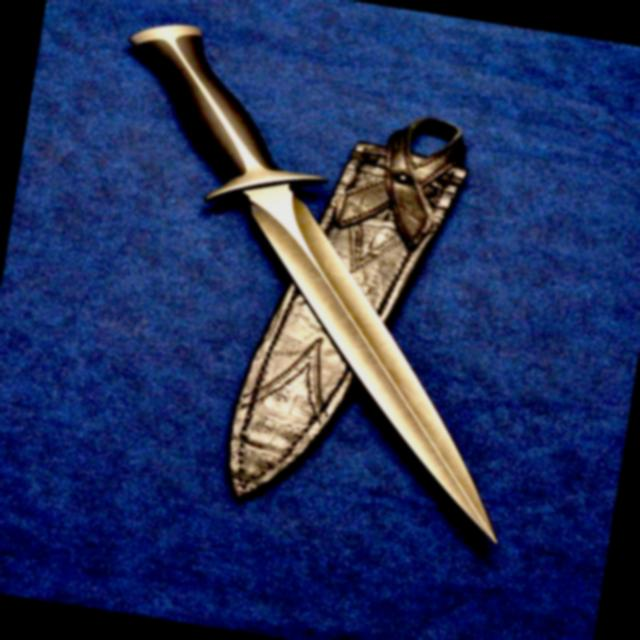short sword: (48, 11, 572, 582)
